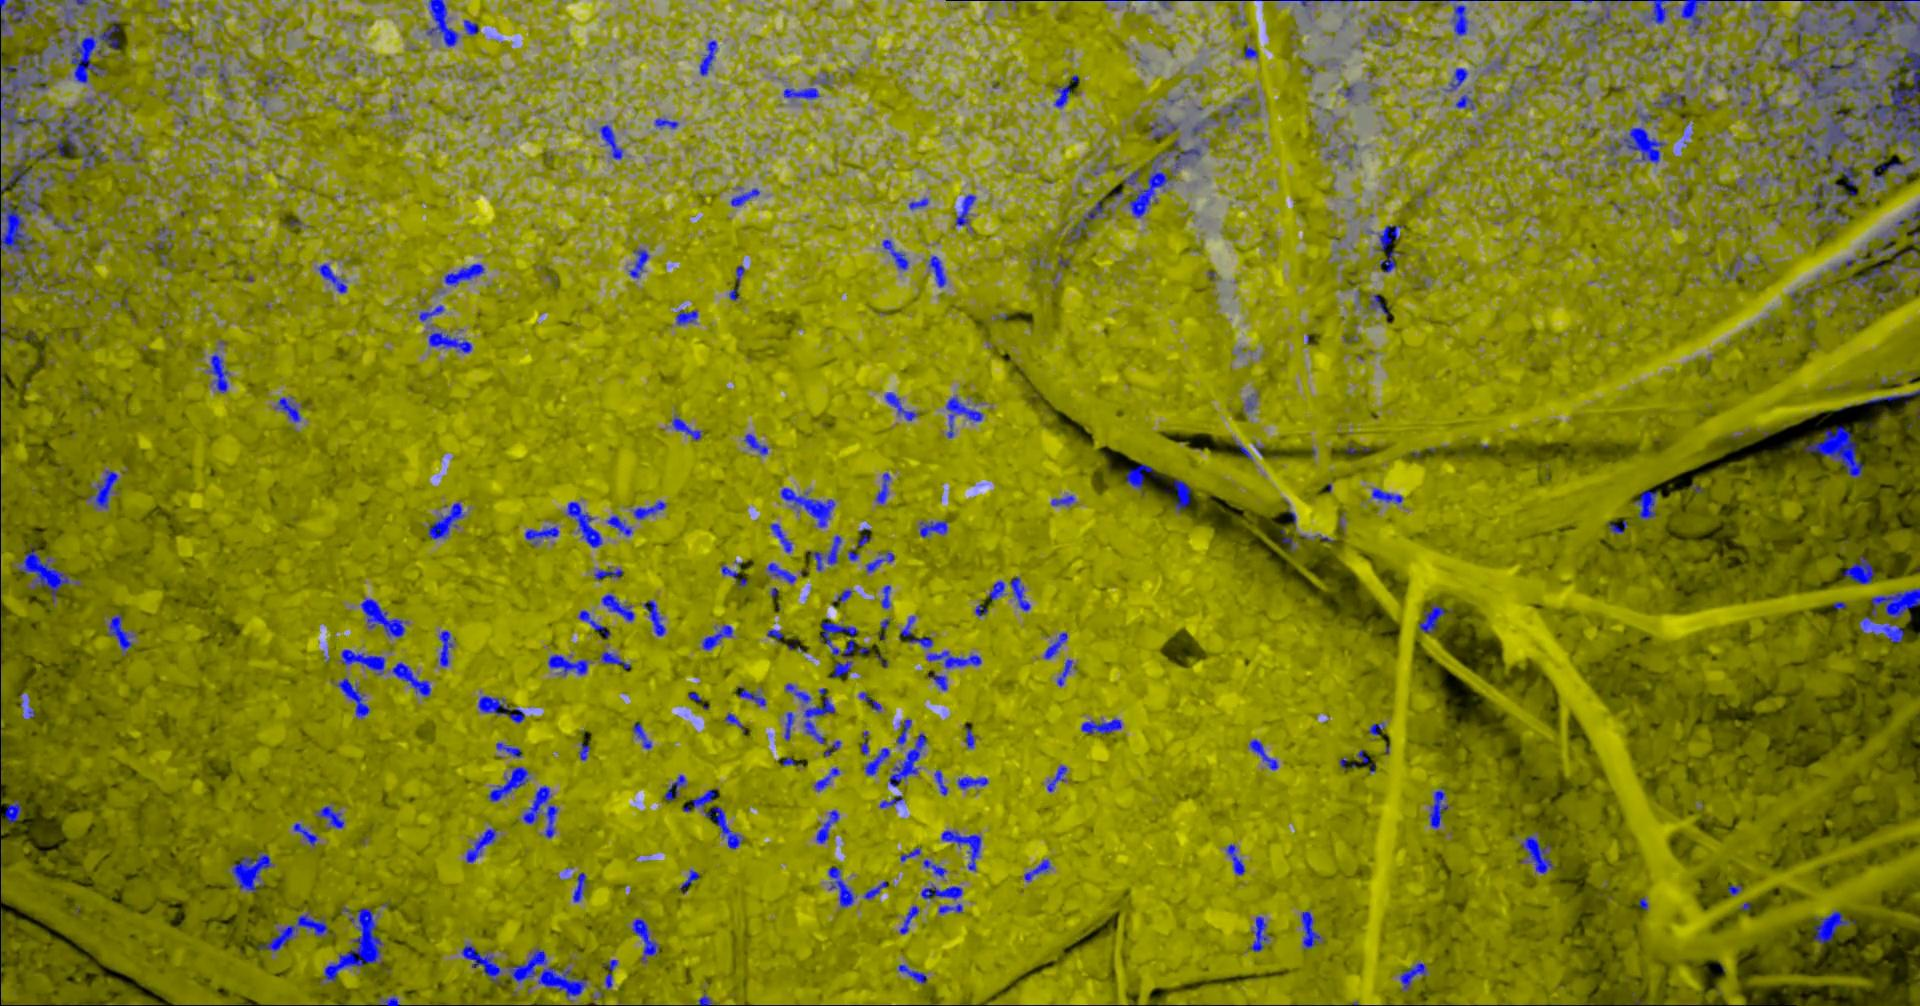ant: (682, 788, 743, 848), (17, 544, 69, 602), (257, 909, 328, 951), (819, 619, 857, 677), (780, 486, 834, 527), (1608, 127, 1665, 164), (888, 732, 926, 786), (460, 942, 505, 983), (361, 598, 406, 636), (941, 829, 982, 871), (231, 851, 274, 890), (566, 500, 602, 547), (1067, 199, 1103, 243), (945, 395, 982, 437), (1844, 260, 1898, 288), (425, 0, 458, 46), (803, 696, 834, 743), (488, 766, 530, 801), (1812, 909, 1855, 944), (391, 661, 430, 697), (1374, 224, 1403, 272), (335, 677, 370, 718), (1520, 831, 1553, 873), (427, 502, 463, 539), (1865, 232, 1902, 268), (477, 695, 524, 721), (86, 470, 118, 508), (631, 918, 659, 962), (827, 866, 856, 907), (1446, 0, 1478, 36), (809, 535, 841, 570), (340, 649, 385, 674), (465, 827, 497, 862), (522, 785, 551, 823), (899, 615, 932, 647), (1679, 0, 1709, 34), (107, 614, 135, 650), (924, 650, 982, 668), (428, 329, 471, 352), (1418, 603, 1451, 633), (55, 0, 91, 25), (443, 263, 484, 286), (884, 392, 917, 420), (601, 593, 634, 621), (1248, 738, 1277, 768), (1841, 555, 1873, 583), (317, 263, 345, 293), (1863, 389, 1919, 404), (881, 239, 908, 271), (578, 610, 610, 636), (643, 600, 665, 636), (670, 414, 703, 439), (815, 809, 839, 843), (547, 654, 588, 674), (1399, 960, 1426, 991), (208, 353, 229, 392), (599, 124, 622, 159), (1125, 464, 1153, 492), (701, 624, 731, 649), (1429, 788, 1448, 828), (1300, 911, 1321, 949), (1079, 716, 1121, 734), (919, 883, 963, 899), (863, 747, 889, 775), (1633, 490, 1657, 520), (1010, 575, 1030, 610), (1250, 916, 1269, 951), (274, 398, 302, 422), (315, 805, 344, 828), (954, 194, 975, 225), (1043, 633, 1067, 659), (813, 767, 839, 791), (698, 39, 716, 75), (1368, 293, 1389, 323), (770, 523, 791, 553), (865, 550, 894, 572), (766, 561, 795, 583), (632, 500, 665, 520), (524, 526, 557, 545), (292, 822, 317, 846), (1173, 478, 1191, 512), (1023, 859, 1050, 882), (0, 269, 28, 291), (663, 774, 684, 801), (735, 686, 764, 706), (899, 904, 919, 934), (897, 964, 926, 984), (783, 83, 819, 99), (721, 564, 747, 587), (1225, 843, 1244, 874), (606, 514, 632, 536), (1046, 763, 1067, 791), (728, 265, 744, 300), (1653, 91, 1685, 109), (928, 255, 946, 287), (629, 248, 648, 277), (1646, 0, 1669, 24), (1444, 67, 1467, 91), (1224, 97, 1250, 118), (438, 630, 453, 666), (1149, 121, 1178, 138), (730, 188, 759, 206), (743, 433, 768, 453), (783, 683, 810, 702), (632, 723, 651, 749), (1759, 95, 1775, 126), (1371, 486, 1402, 503), (599, 652, 630, 668), (919, 520, 947, 537), (543, 804, 557, 838), (875, 473, 890, 503), (858, 691, 881, 711), (1905, 203, 1919, 236), (863, 880, 888, 899), (418, 304, 443, 321), (571, 873, 587, 902), (602, 959, 617, 988), (679, 869, 698, 892), (1053, 83, 1070, 107), (4, 799, 22, 823), (922, 859, 946, 876), (1057, 658, 1072, 686), (593, 567, 622, 580), (895, 718, 910, 744), (1796, 22, 1810, 50), (1843, 251, 1868, 267), (1876, 285, 1901, 300), (495, 742, 521, 757), (933, 768, 947, 795), (957, 776, 987, 789), (1726, 255, 1741, 279), (676, 309, 697, 325), (1590, 8, 1609, 25), (928, 672, 947, 690), (1280, 528, 1294, 551), (988, 580, 1004, 600), (899, 846, 919, 861), (1123, 168, 1139, 185), (1455, 94, 1474, 109), (654, 117, 678, 128), (1050, 494, 1074, 506), (1790, 291, 1806, 309), (823, 741, 841, 756), (1815, 14, 1829, 33), (1608, 520, 1627, 533), (879, 795, 902, 807), (783, 711, 792, 741), (908, 197, 928, 210), (766, 629, 783, 643), (724, 713, 742, 727), (880, 584, 890, 608), (938, 903, 963, 913), (578, 741, 590, 760), (964, 725, 974, 748), (463, 19, 477, 36), (1368, 721, 1384, 735), (860, 730, 869, 754), (378, 995, 399, 1005), (1244, 394, 1256, 412), (833, 589, 851, 601), (1243, 44, 1257, 58), (697, 992, 712, 1005), (1752, 0, 1763, 18), (974, 603, 987, 616), (1727, 884, 1741, 895), (0, 728, 1, 782), (0, 909, 1, 962)
